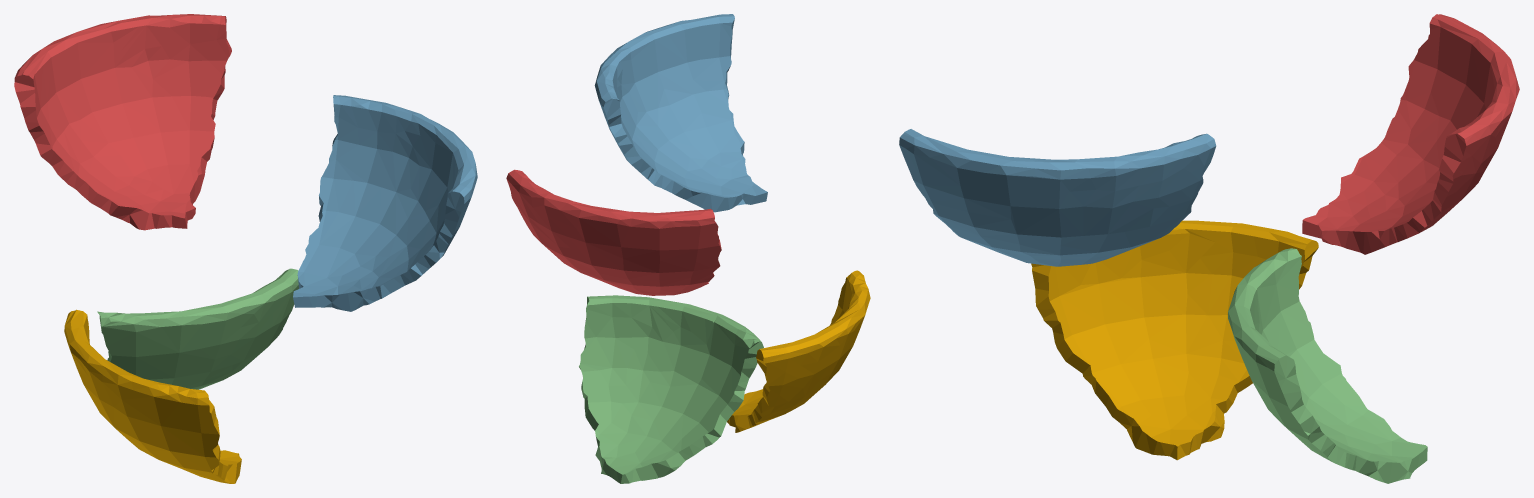
Rendered from fractured_61_4pcs_transformed.glb.
The picture shows the model from 3 angles, left to right: view 1: azimuth 30°, elevation 25°; view 2: azimuth 150°, elevation 25°; view 3: azimuth 270°, elevation 25°; orthographic projection. The views are drawn at different scales.
Parts seen in each view (by area): view 1: piece_1.obj, piece_2.obj, piece_3.obj, piece_0.obj; view 2: piece_3.obj, piece_2.obj, piece_1.obj, piece_0.obj; view 3: piece_0.obj, piece_2.obj, piece_1.obj, piece_3.obj.
Boxes of the visible parts, left/top/right/bottom form: piece_1.obj: left=14, top=14, right=231, bottom=230; piece_2.obj: left=293, top=95, right=477, bottom=311; piece_3.obj: left=97, top=268, right=298, bottom=389; piece_0.obj: left=64, top=309, right=241, bottom=483; piece_3.obj: left=579, top=295, right=763, bottom=483; piece_2.obj: left=594, top=14, right=767, bottom=212; piece_1.obj: left=506, top=169, right=721, bottom=295; piece_0.obj: left=727, top=270, right=870, bottom=432; piece_0.obj: left=1031, top=220, right=1318, bottom=460; piece_2.obj: left=899, top=129, right=1216, bottom=266; piece_1.obj: left=1302, top=14, right=1519, bottom=254; piece_3.obj: left=1228, top=248, right=1427, bottom=483.
Size of the model in its own units: 0.9984 by 1.03 by 1.49.
